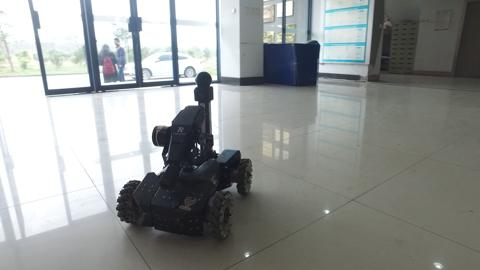chariot: (113, 68, 254, 246)
